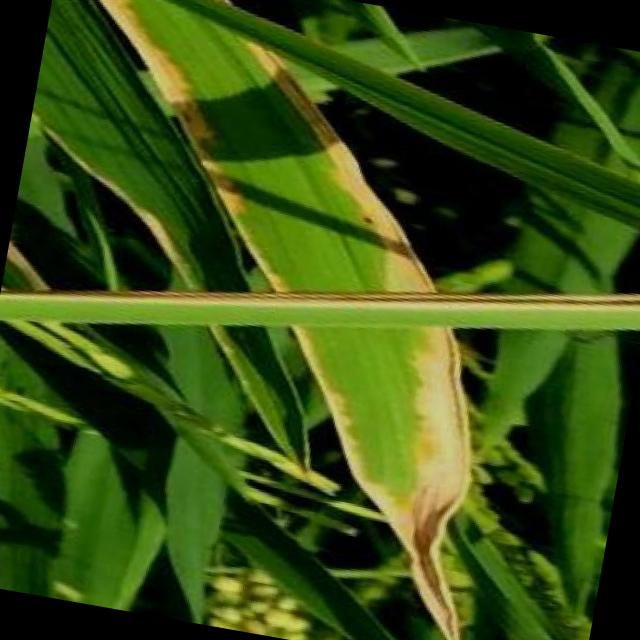Rice_Bacterial_Blight: (288, 300, 496, 554)
